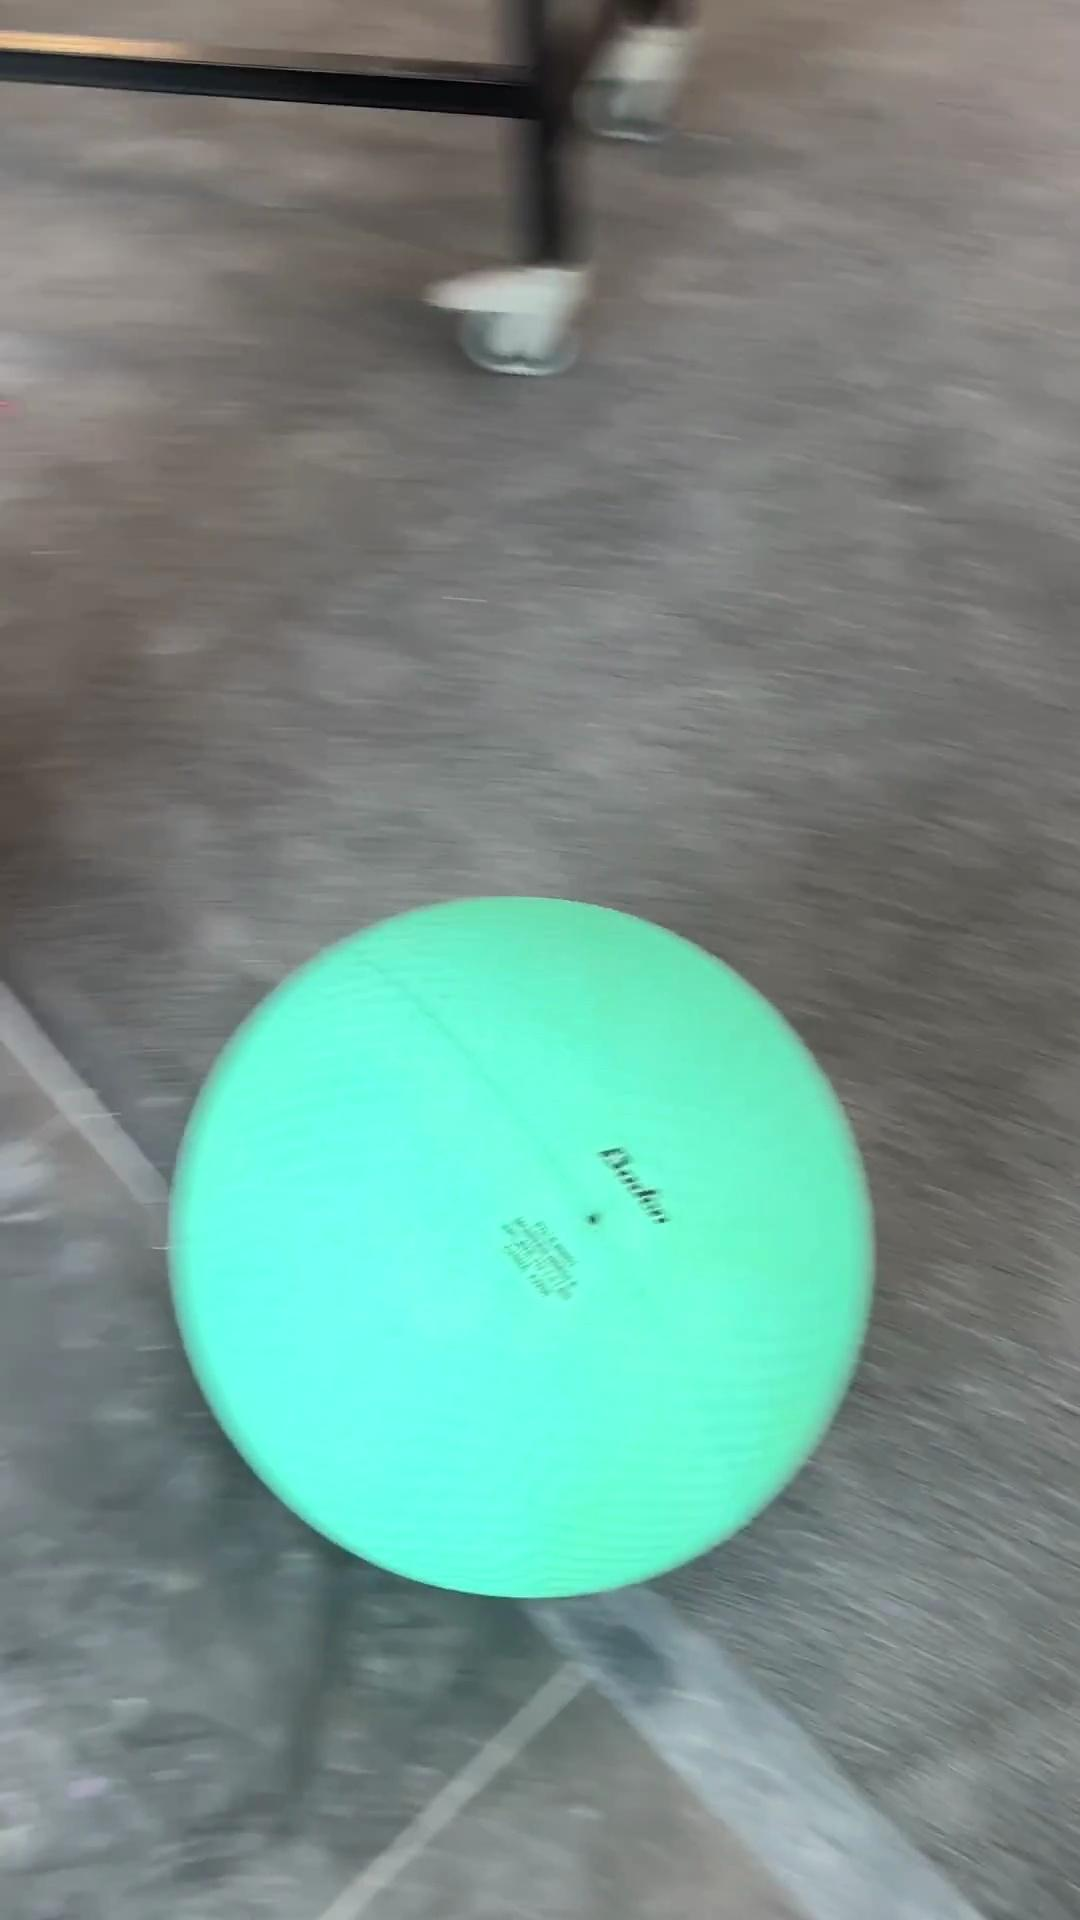ALGAE: (164, 891, 877, 1602)
